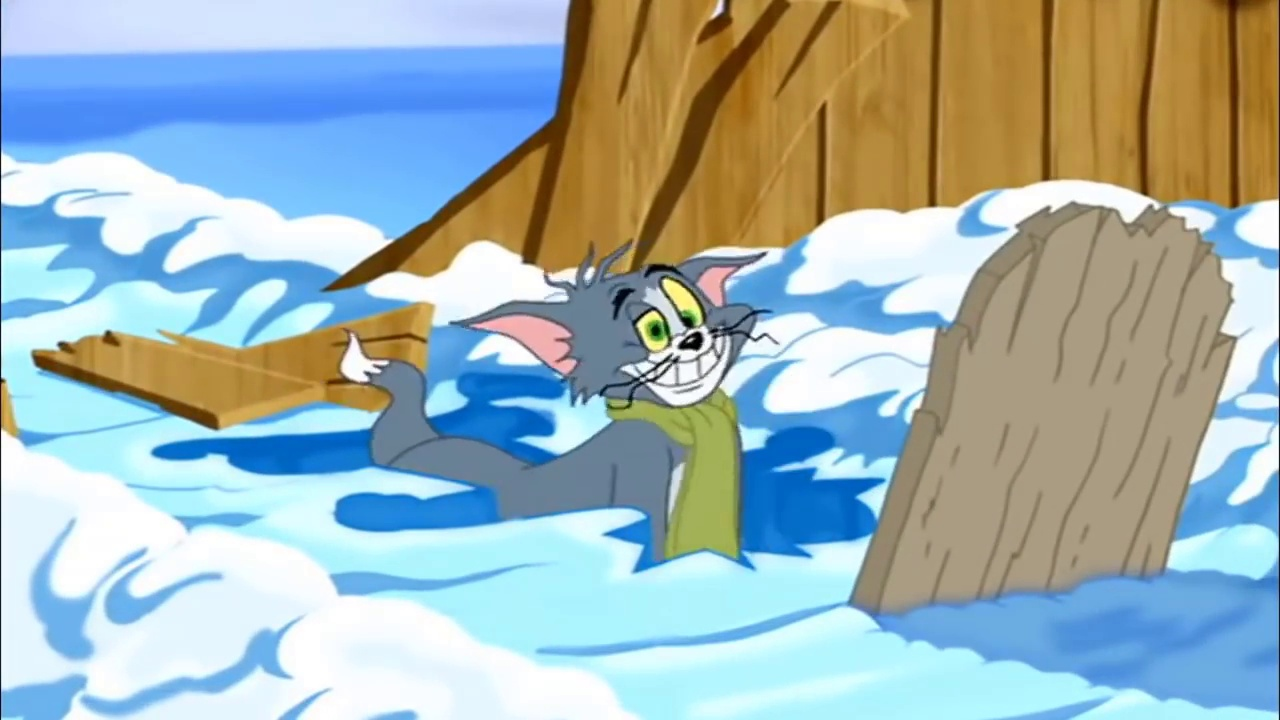face: (605, 265, 742, 408)
